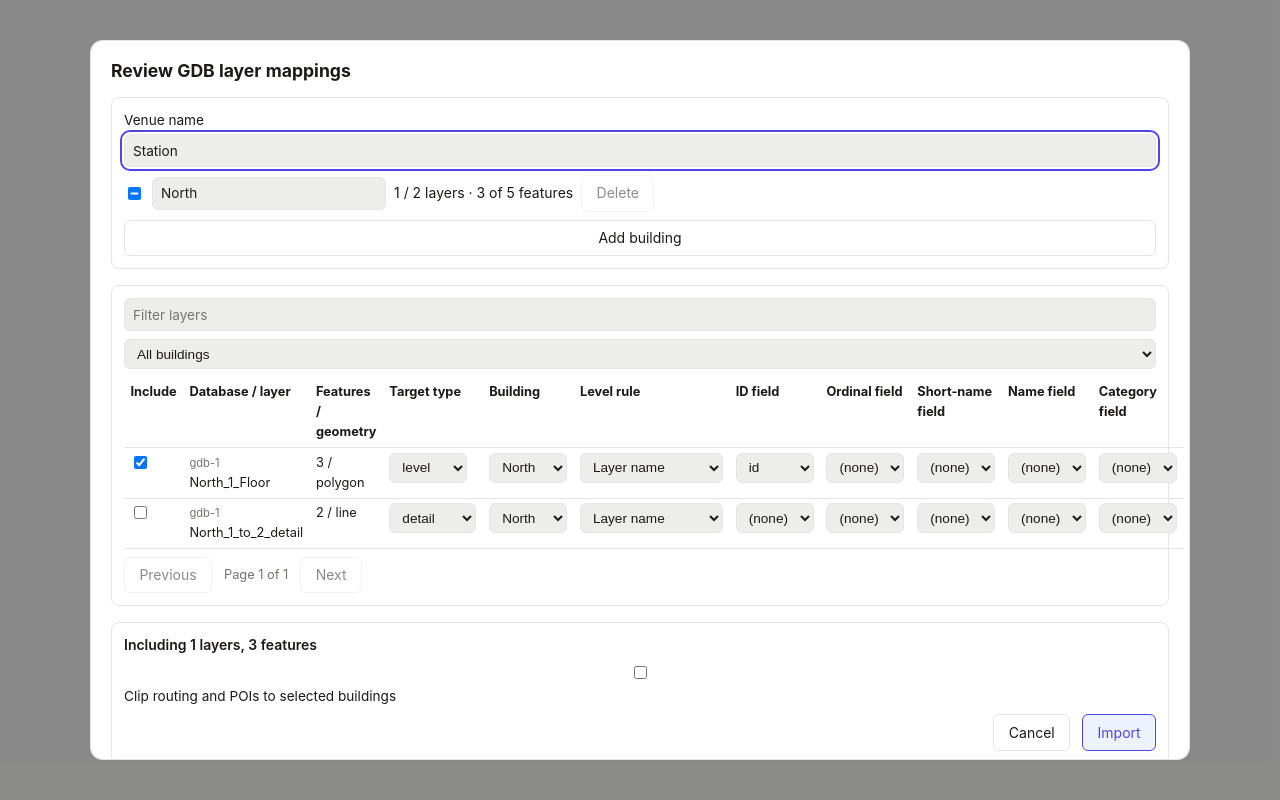
GdbImportDialog › auto-enables clipping when a partially included building is deselected
What coordinates should you click on to do the following:
click the checkbox named "Include North"
I would click on:
 (134, 193)
Its box is [128, 187, 141, 200].
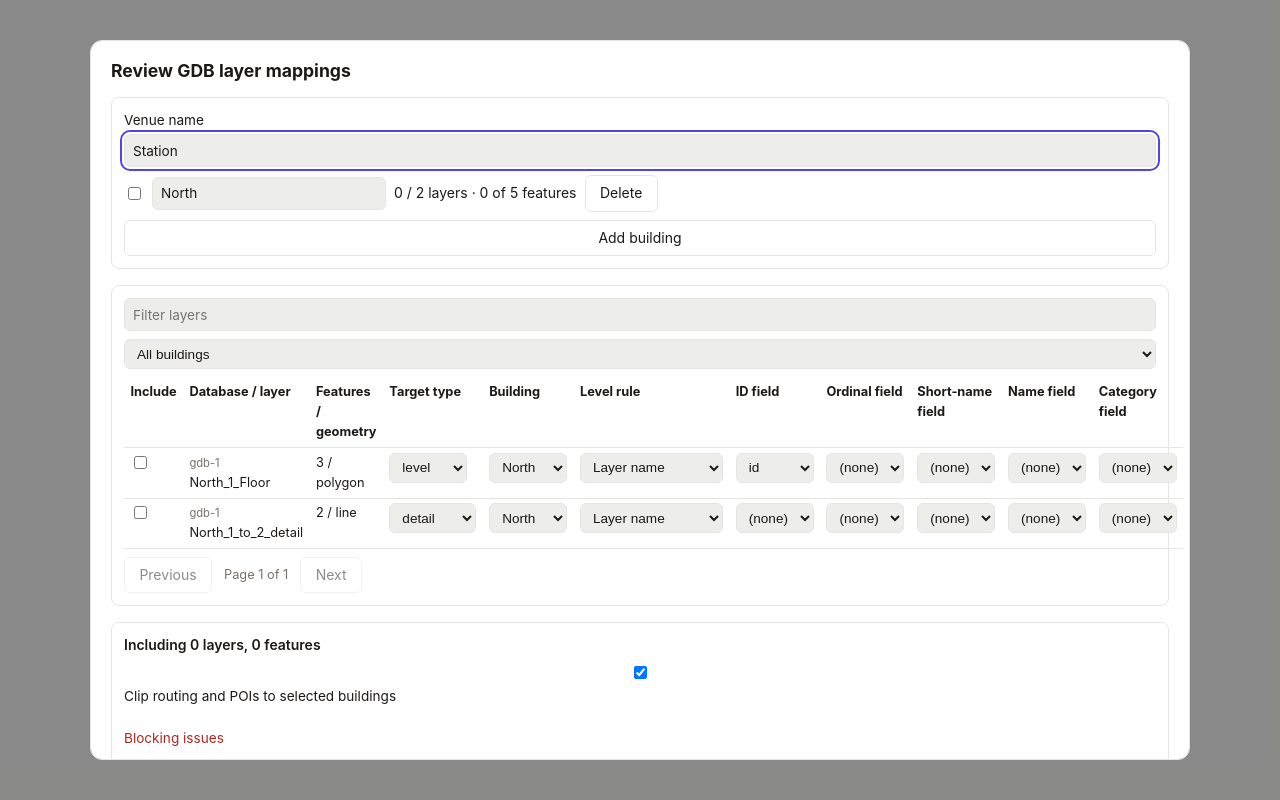
expect the checkbox labelled "Clip routing and POIs to selected buildings" is checked: met, box [128, 666, 1153, 680]
